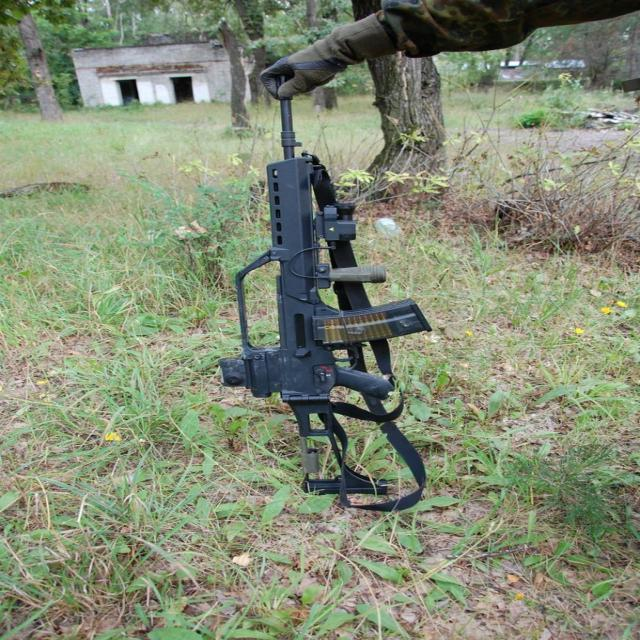firearm: (215, 70, 432, 497)
